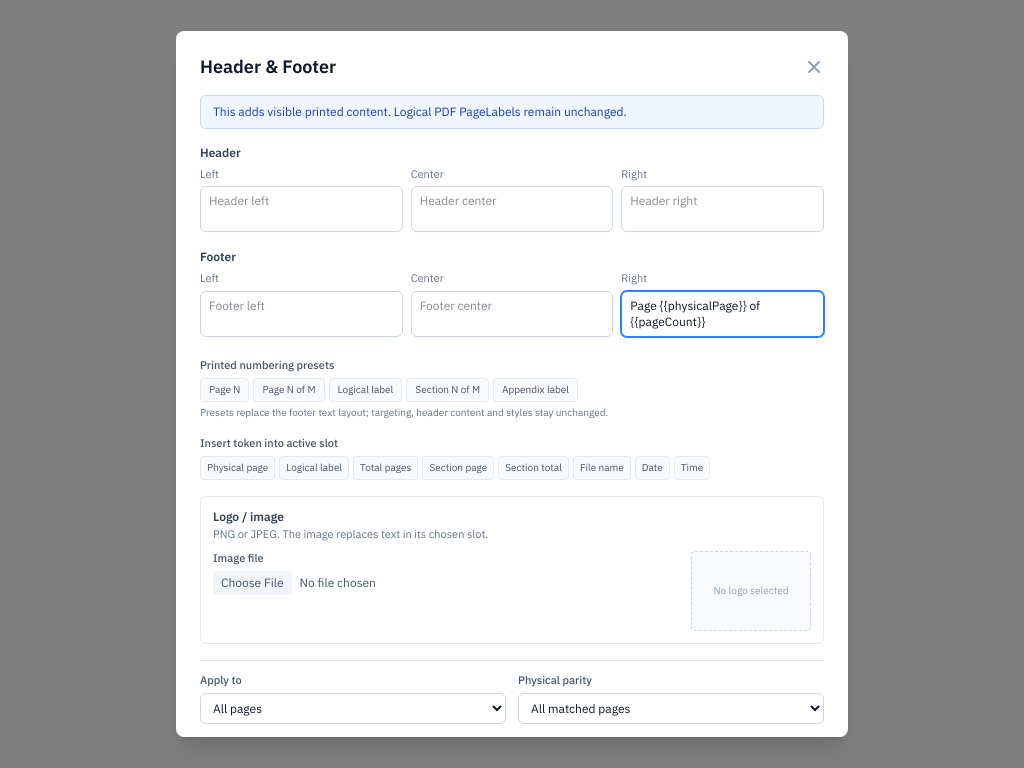
HeaderFooterDialog › prefills the appendix pattern as editable canonical text
Click the button with aria-label "Preset: Appendix label": point(536, 390) [493,378,578,402]
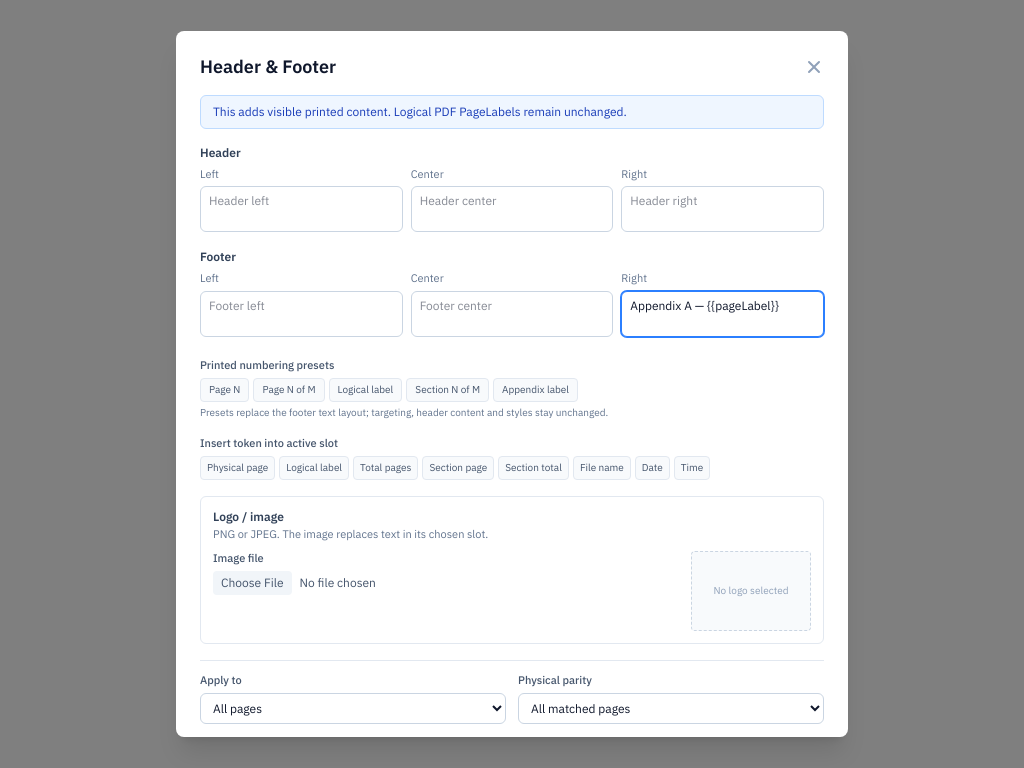
Expected: the text box named "Footer center" is empty, [411,291,613,337]
Now the text box named "Footer right" holds "Appendix A — {{pageLabel}}", box [621,291,824,337]
